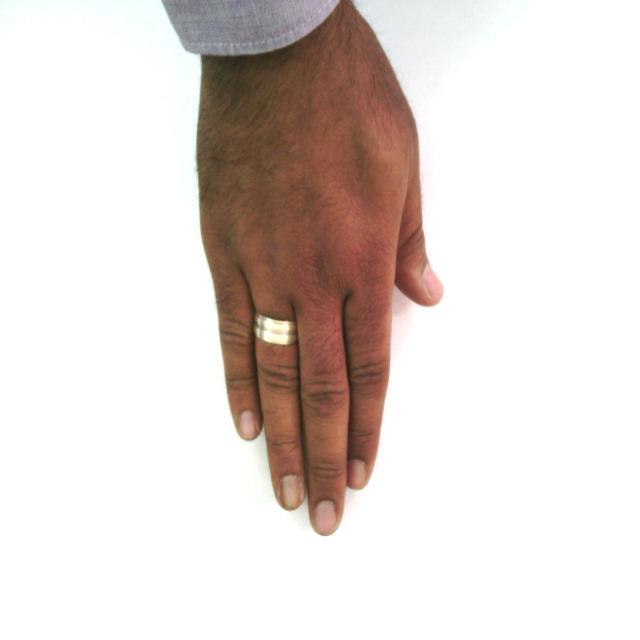Fingernail: (313, 500, 337, 536), (282, 475, 303, 510), (425, 266, 442, 299), (239, 411, 258, 439), (349, 460, 367, 489)
